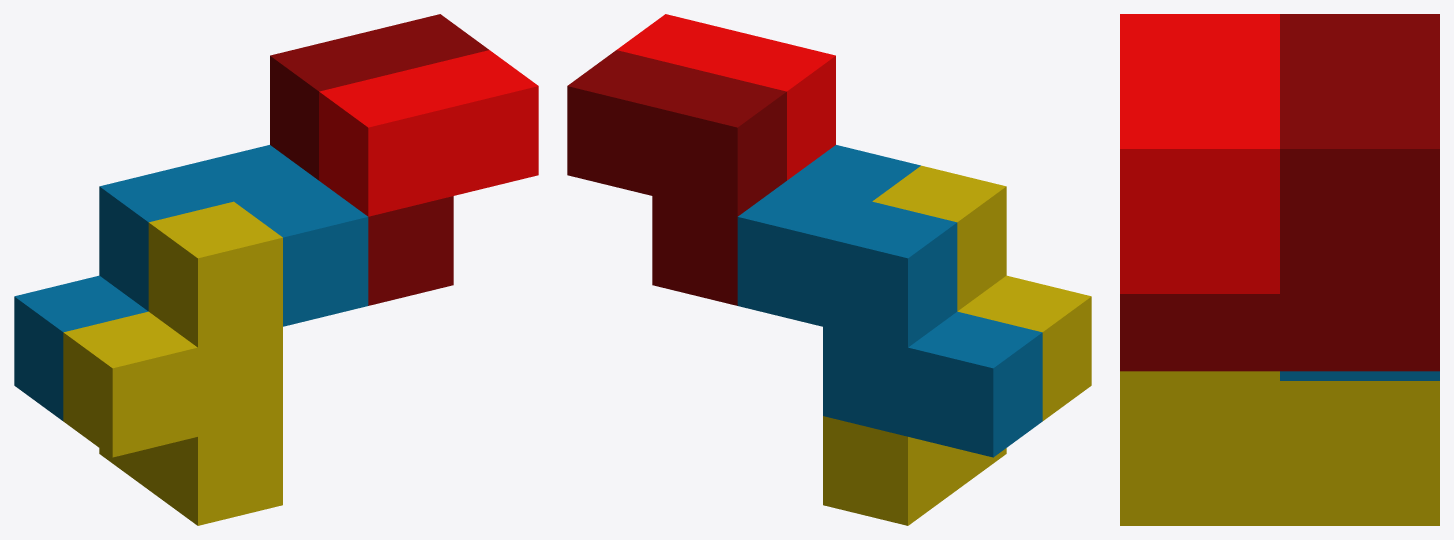
3 views of the same model, side by side, from view 1: azimuth 30°, elevation 25°; view 2: azimuth 150°, elevation 25°; view 3: azimuth 270°, elevation 25° (orthographic). The views are drawn at different scales.
Visible parts, largest first — view 1: mergedBlocks(Clone); view 2: mergedBlocks(Clone); view 3: mergedBlocks(Clone).
Part boxes in pixels (box(x1,y1,x2,y2)): mergedBlocks(Clone): box(14, 14, 538, 525); mergedBlocks(Clone): box(567, 14, 1091, 525); mergedBlocks(Clone): box(1120, 14, 1439, 525).
Size of the model in its own units: 5 by 4 by 2.
Materials: 4 (4 with a texture image).
